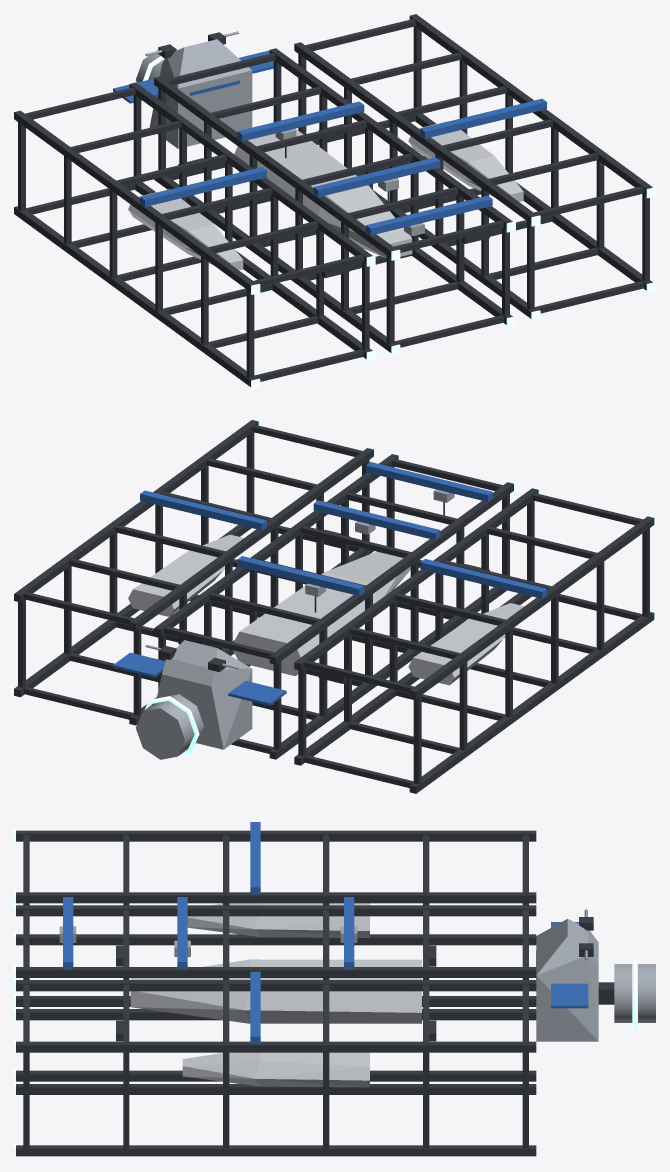
The model's file is Shipyard_L5.glb.
3 renders of one model, top to bottom at view 1: azimuth 30°, elevation 25°; view 2: azimuth 150°, elevation 25°; view 3: azimuth 270°, elevation 25°, orthographic. The views are drawn at different scales.
Parts seen in each view (by area): view 1: control_block, hull_in_progress, frame_beam_R1, frame_beam_L1, frame_beam_1, frame_beam_L3, frame_beam_L0, frame_beam_R0, frame_beam_0, hull_in_progress_L, hull_in_progress_R, frame_beam_3 (+55 smaller); view 2: hull_in_progress, control_block, frame_beam_R1, frame_beam_L1, frame_beam_1, frame_beam_L3, frame_beam_L0, frame_beam_R0, fusion_reactor, frame_beam_0, hull_in_progress_R, hull_in_progress_L (+49 smaller); view 3: hull_in_progress, frame_beam_R0, frame_beam_R2, control_block, frame_beam_L0, frame_beam_L1, frame_beam_R1, hull_in_progress_R, frame_beam_1, frame_beam_0, frame_beam_R3, frame_beam_L3 (+17 smaller).
Boxes of the visible parts, left/top/right/bottom form: control_block: left=149, top=39, right=252, bottom=148; hull_in_progress: left=234, top=128, right=412, bottom=258; frame_beam_R1: left=294, top=42, right=537, bottom=223; frame_beam_L1: left=14, top=110, right=257, bottom=292; frame_beam_1: left=154, top=76, right=397, bottom=257; frame_beam_L3: left=14, top=206, right=256, bottom=386; frame_beam_L0: left=129, top=82, right=372, bottom=264; frame_beam_R0: left=409, top=14, right=652, bottom=195; frame_beam_0: left=269, top=48, right=512, bottom=229; hull_in_progress_L: left=128, top=189, right=243, bottom=270; hull_in_progress_R: left=408, top=121, right=523, bottom=201; frame_beam_3: left=154, top=176, right=397, bottom=352; hull_in_progress: left=233, top=551, right=410, bottom=676; control_block: left=157, top=640, right=252, bottom=749; frame_beam_R1: left=129, top=448, right=373, bottom=630; frame_beam_L1: left=409, top=516, right=654, bottom=698; frame_beam_1: left=269, top=482, right=513, bottom=664; frame_beam_L3: left=409, top=612, right=654, bottom=793; frame_beam_L0: left=294, top=488, right=538, bottom=670; frame_beam_R0: left=14, top=420, right=258, bottom=602; fusion_reactor: left=136, top=694, right=203, bottom=759; frame_beam_0: left=154, top=454, right=398, bottom=636; hull_in_progress_R: left=128, top=534, right=243, bottom=616; hull_in_progress_L: left=408, top=603, right=523, bottom=685; hull_in_progress: left=130, top=959, right=421, bottom=1023; frame_beam_R0: left=16, top=1041, right=536, bottom=1052; frame_beam_R2: left=16, top=1145, right=536, bottom=1156; control_block: left=536, top=919, right=598, bottom=1041; frame_beam_L0: left=16, top=892, right=536, bottom=903; frame_beam_L1: left=16, top=830, right=536, bottom=841; frame_beam_R1: left=16, top=980, right=536, bottom=991; hull_in_progress_R: left=182, top=1052, right=369, bottom=1087; frame_beam_1: left=16, top=905, right=536, bottom=916; frame_beam_0: left=16, top=967, right=536, bottom=977; frame_beam_R3: left=16, top=1084, right=536, bottom=1094; frame_beam_L3: left=16, top=934, right=536, bottom=945.
Size of the model in its own units: 784 by 208 by 987.
